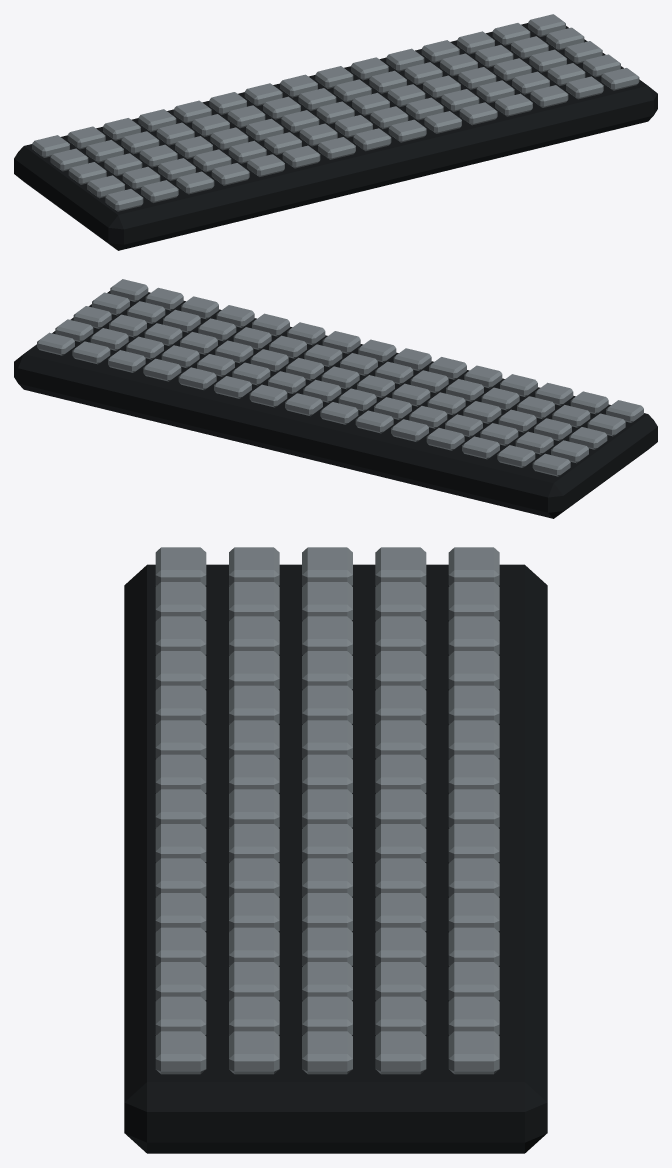
The model's file is Keyboard.fbx.
3 renders of one model, top to bottom at view 1: azimuth 30°, elevation 25°; view 2: azimuth 150°, elevation 25°; view 3: azimuth 270°, elevation 25°, orthographic. The views are drawn at different scales.
Visible parts, largest first — view 1: Keyboard; view 2: Keyboard; view 3: Keyboard.
Boxes of the visible parts, bbox=[...] form: Keyboard: bbox=[14, 14, 657, 250]; Keyboard: bbox=[14, 279, 657, 518]; Keyboard: bbox=[124, 547, 547, 1153].
Size of the model in its own units: 45 by 3.6 by 15.
1 material, 1 textured.
